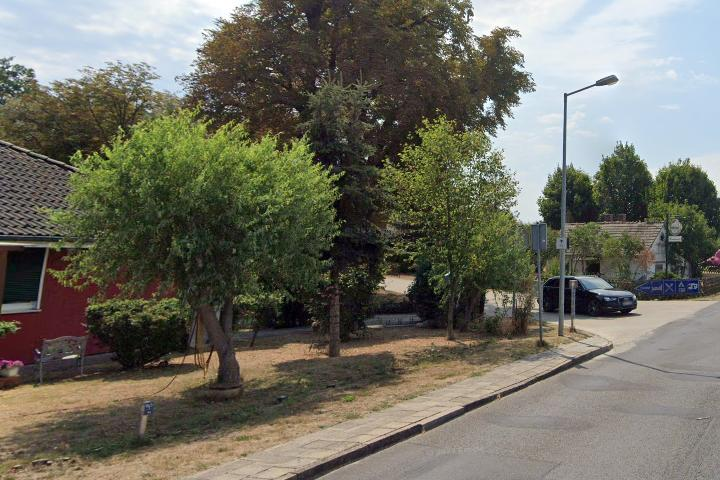vehicle: (535, 272, 641, 323)
